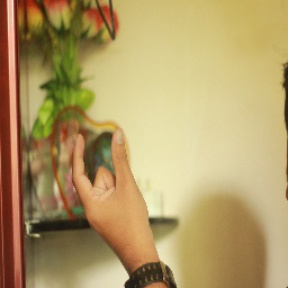U: (65, 122, 153, 250)
